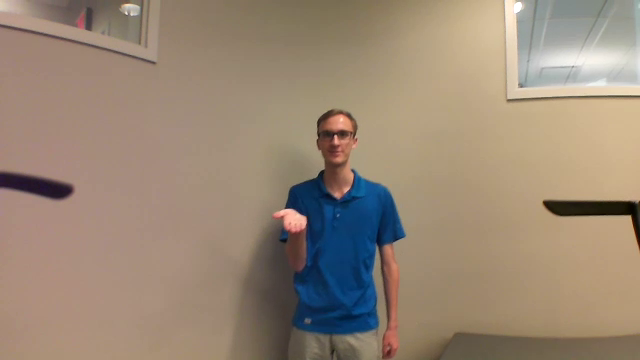land: (271, 200, 317, 236)
